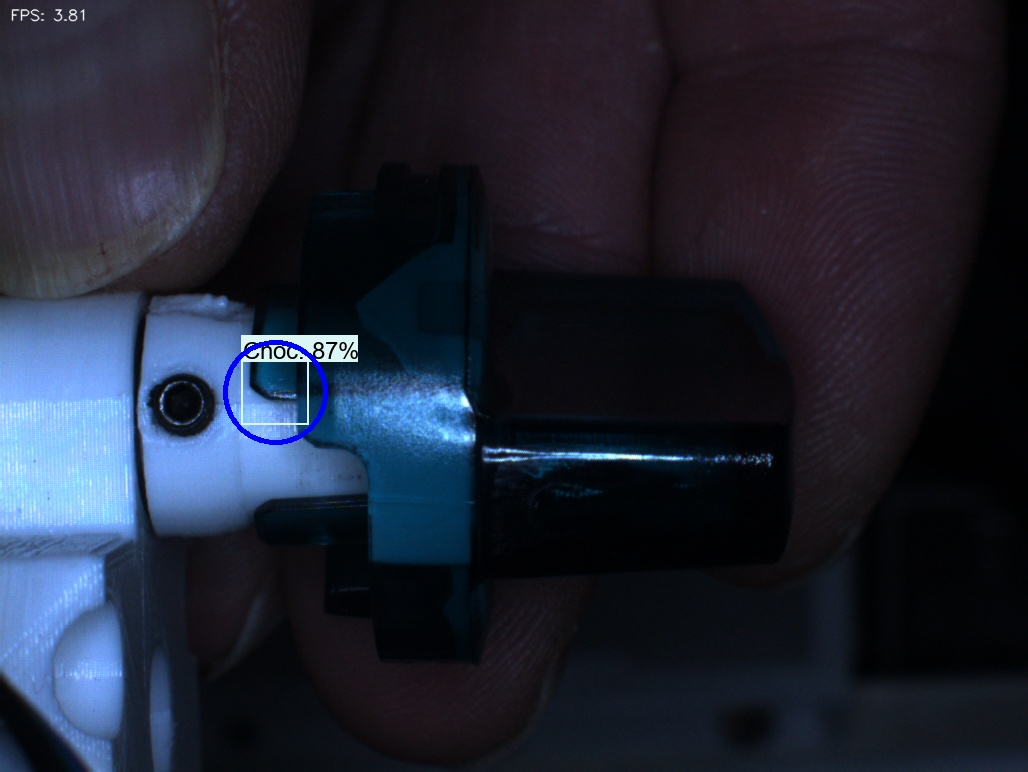DentOk: (329, 257, 408, 356)
